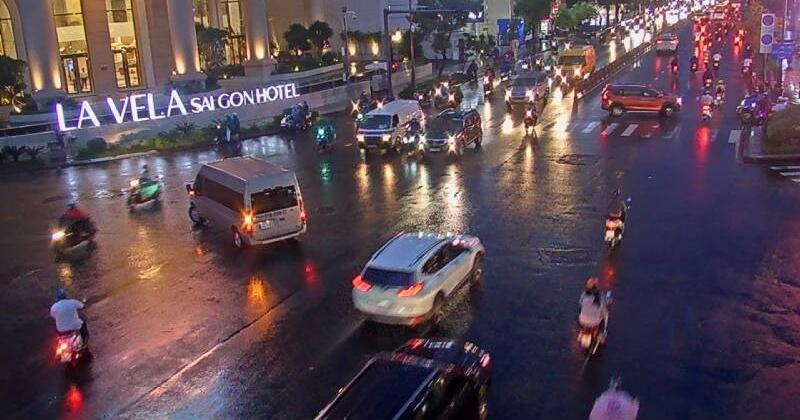xe hoi: (313, 342, 487, 420), (355, 231, 481, 327)
xe may: (48, 289, 92, 376), (576, 276, 608, 358)
xe van: (187, 156, 306, 247), (357, 98, 424, 150)
